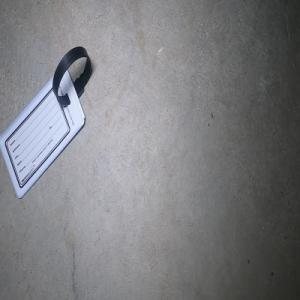LuggageTag: (0, 44, 93, 200)
